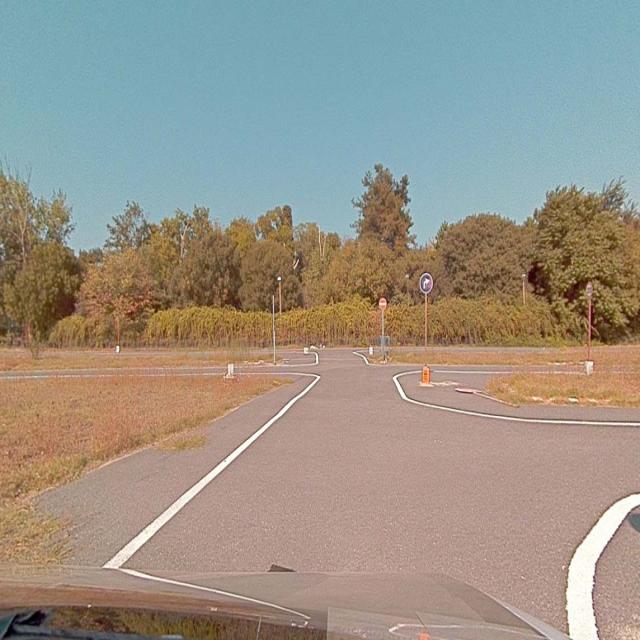girisyok: (380, 298, 386, 309)
sag: (420, 273, 433, 292)
